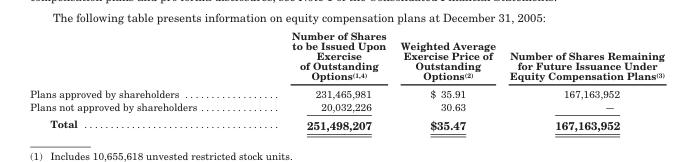table: (29, 29, 664, 131)
table column: (29, 29, 243, 131), (502, 29, 664, 131), (243, 29, 392, 131), (392, 29, 502, 131)
table column header: (29, 29, 664, 84)
table row: (29, 29, 664, 84), (29, 114, 664, 131), (29, 84, 664, 99), (29, 99, 664, 114)
